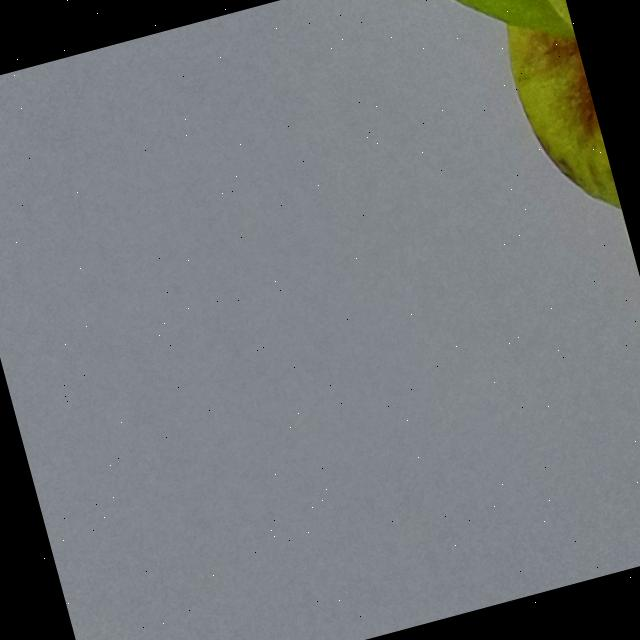mangosteen: (150, 0, 640, 640)
